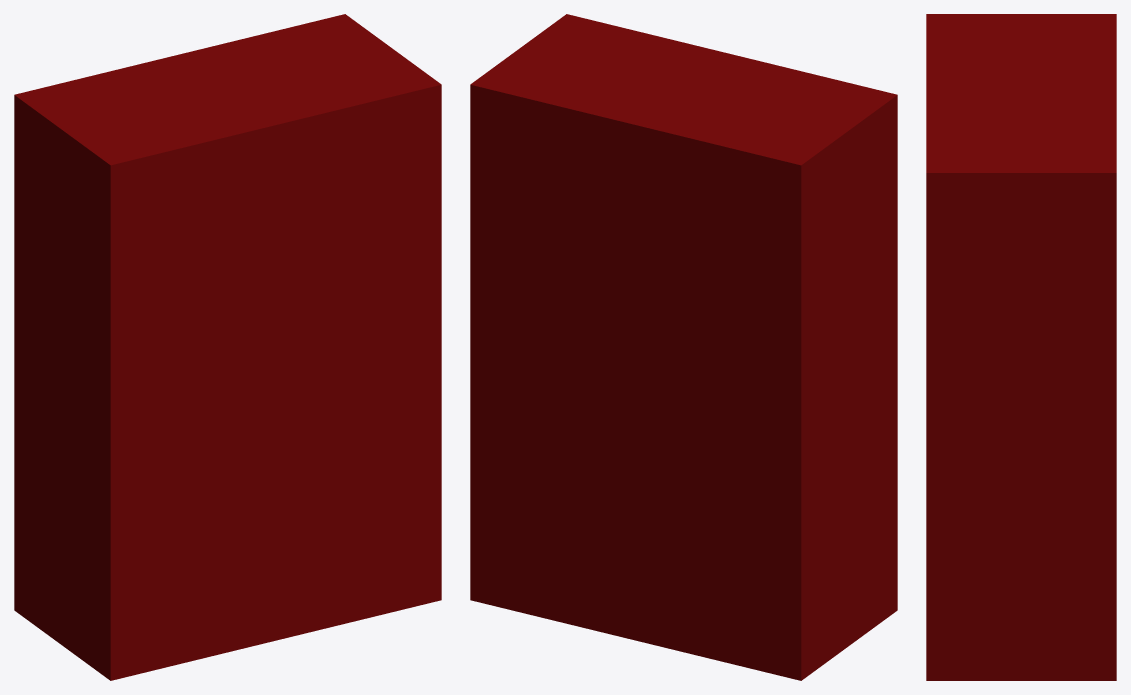
Rendered from shelf.fbx.
The picture shows the model from 3 angles, left to right: view 1: azimuth 30°, elevation 25°; view 2: azimuth 150°, elevation 25°; view 3: azimuth 270°, elevation 25°; orthographic projection.
Parts seen in each view (by area): view 1: shelf_Col; view 2: shelf_Col; view 3: shelf_Col.
Part boxes in pixels (bbox=[...]): shelf_Col: bbox=[14, 14, 441, 680]; shelf_Col: bbox=[470, 14, 897, 680]; shelf_Col: bbox=[926, 14, 1116, 680].
Bounding box in the file's own units: 159 × 236 × 80.21.
